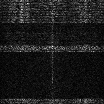wifi: (1, 1, 104, 23), (1, 45, 104, 51), (1, 98, 104, 104)
